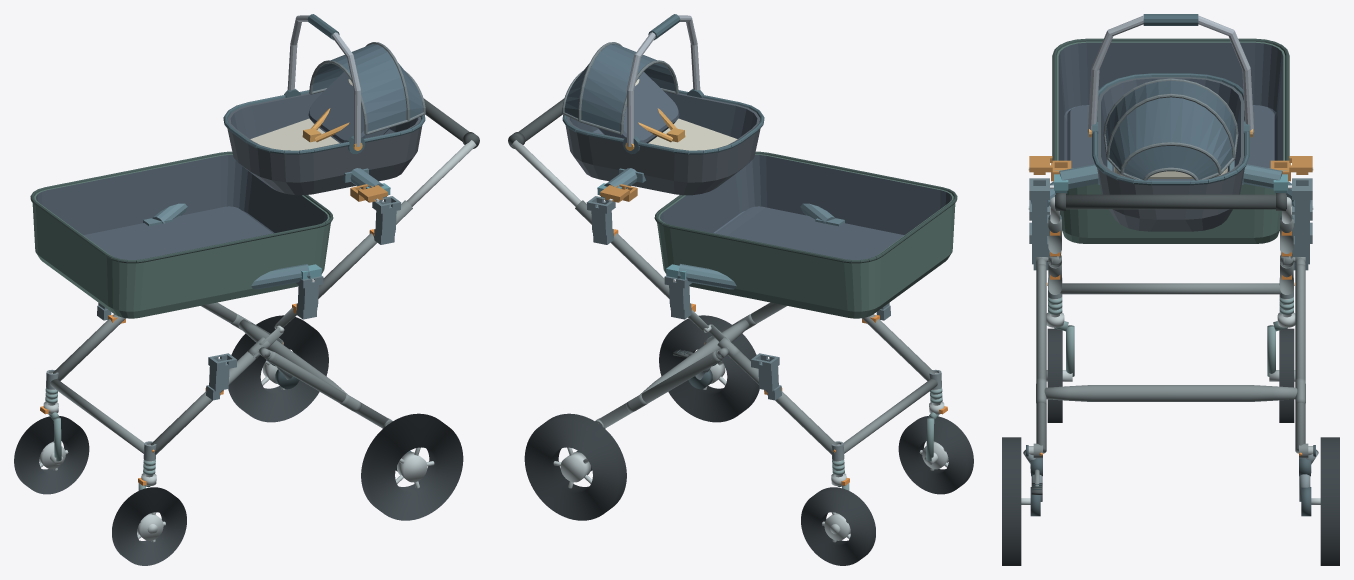
The model's file is D13_w650_state1_wheel_M.glb.
3 renders of one model, left to right at view 1: azimuth 30°, elevation 25°; view 2: azimuth 150°, elevation 25°; view 3: azimuth 270°, elevation 25°, orthographic. The views are drawn at different scales.
Parts seen in each view (by area): view 1: D13_Lower, D13_Upper, RL_tire.008, RR_tire.008, FL_tire.008, FR_tire.008, D13_Lower_Mount_M, V46_rear_leg_-1.009, main_lower_-1.009, front_fixed_round_tube.008, main_upper_-1.009, Universal_Cabin_Receiver_H_-1 (+7 smaller); view 2: D13_Lower, D13_Upper, RR_tire.008, RL_tire.008, FR_tire.008, FL_tire.008, D13_Lower_Mount_M, V46_rear_leg_1.009, main_lower_1.009, front_fixed_round_tube.008, main_upper_1.009, Universal_Cabin_Receiver_H_1 (+7 smaller); view 3: D13_Upper, D13_Lower, V46_rearbar.009, round_handle.008, front_fixed_round_tube.008, RL_tire.008, RR_tire.008, D13_Upper_Mount_H, V46_rear_leg_1.009, V46_rear_leg_-1.009, FL_tire.008, FR_tire.008 (+8 smaller).
Boxes of the visible parts, x1=… form: D13_Lower: x1=30, y1=151, x2=333, y2=318; D13_Upper: x1=223, y1=14, x2=425, y2=195; RL_tire.008: x1=361, y1=413, x2=463, y2=520; RR_tire.008: x1=228, y1=315, x2=328, y2=422; FL_tire.008: x1=112, y1=487, x2=186, y2=565; FR_tire.008: x1=14, y1=416, x2=89, y2=494; D13_Lower_Mount_M: x1=143, y1=203, x2=321, y2=289; V46_rear_leg_-1.009: x1=267, y1=351, x2=388, y2=428; main_lower_-1.009: x1=150, y1=351, x2=258, y2=454; front_fixed_round_tube.008: x1=50, y1=379, x2=144, y2=453; main_upper_-1.009: x1=318, y1=200, x2=412, y2=298; Universal_Cabin_Receiver_H_-1: x1=372, y1=196, x2=401, y2=244; D13_Lower: x1=654, y1=151, x2=957, y2=318; D13_Upper: x1=562, y1=14, x2=764, y2=195; RR_tire.008: x1=524, y1=413, x2=626, y2=520; RL_tire.008: x1=659, y1=315, x2=759, y2=422; FR_tire.008: x1=801, y1=487, x2=875, y2=565; FL_tire.008: x1=898, y1=416, x2=973, y2=494; D13_Lower_Mount_M: x1=666, y1=203, x2=844, y2=289; V46_rear_leg_1.009: x1=599, y1=351, x2=720, y2=428; main_lower_1.009: x1=729, y1=351, x2=837, y2=454; front_fixed_round_tube.008: x1=843, y1=379, x2=937, y2=453; main_upper_1.009: x1=575, y1=200, x2=669, y2=298; Universal_Cabin_Receiver_H_1: x1=586, y1=196, x2=615, y2=244; D13_Upper: x1=1087, y1=14, x2=1254, y2=231; D13_Lower: x1=1052, y1=38, x2=1289, y2=243; V46_rearbar.009: x1=1044, y1=385, x2=1297, y2=401; round_handle.008: x1=1055, y1=194, x2=1286, y2=209; front_fixed_round_tube.008: x1=1060, y1=283, x2=1281, y2=294; RL_tire.008: x1=1002, y1=437, x2=1021, y2=565; RR_tire.008: x1=1320, y1=437, x2=1339, y2=565; D13_Upper_Mount_H: x1=1050, y1=160, x2=1291, y2=193; V46_rear_leg_1.009: x1=1295, y1=264, x2=1305, y2=453; V46_rear_leg_-1.009: x1=1036, y1=264, x2=1046, y2=453; FL_tire.008: x1=1047, y1=328, x2=1062, y2=422; FR_tire.008: x1=1279, y1=328, x2=1294, y2=422.
Bounding box in the file's own units: 1.16 × 1.37 × 0.7871.
